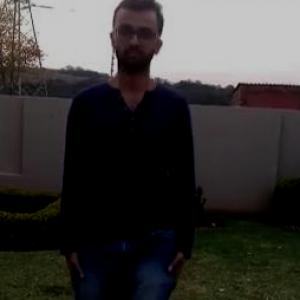follow: (53, 0, 201, 299)
